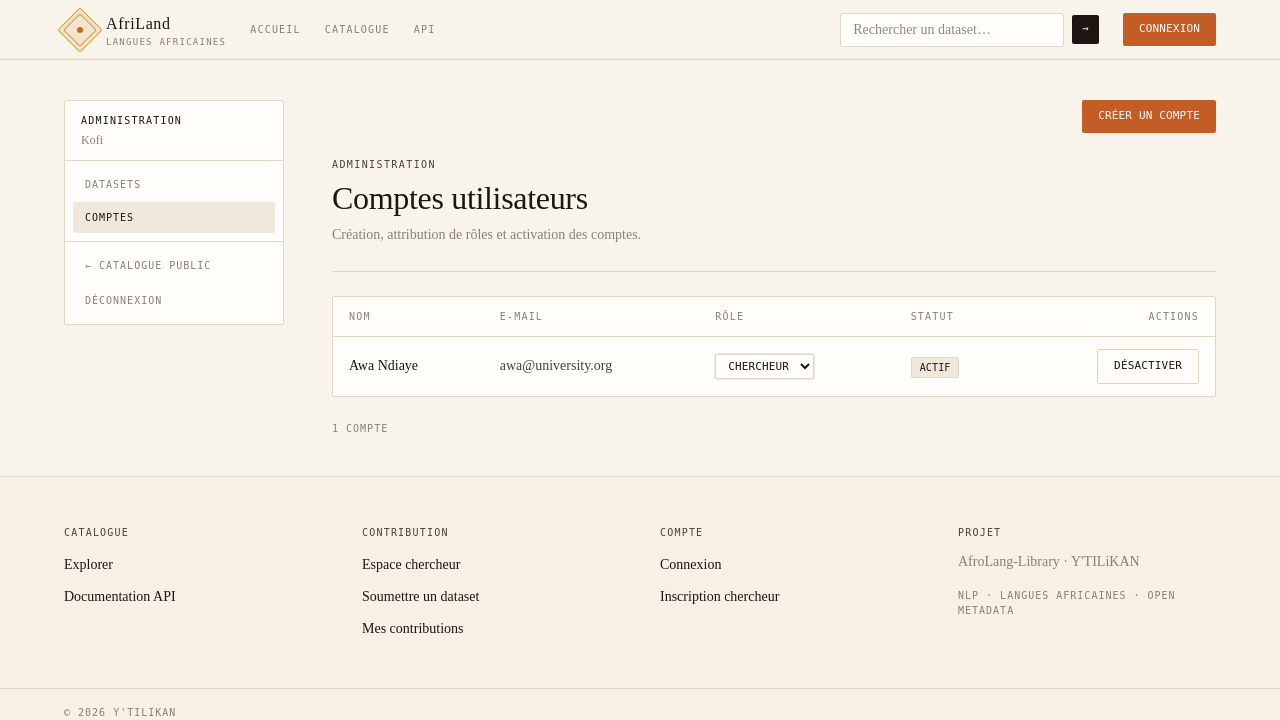
Test case: AccountAdminPanel (Story 4.4) › désactive un compte puis recharge la liste (FR-20)
What coordinates should you click on to do the following:
click the button with aria-label "Désactiver Awa Ndiaye"
I would click on:
 (1148, 366)
Its box is [1097,349,1199,384].
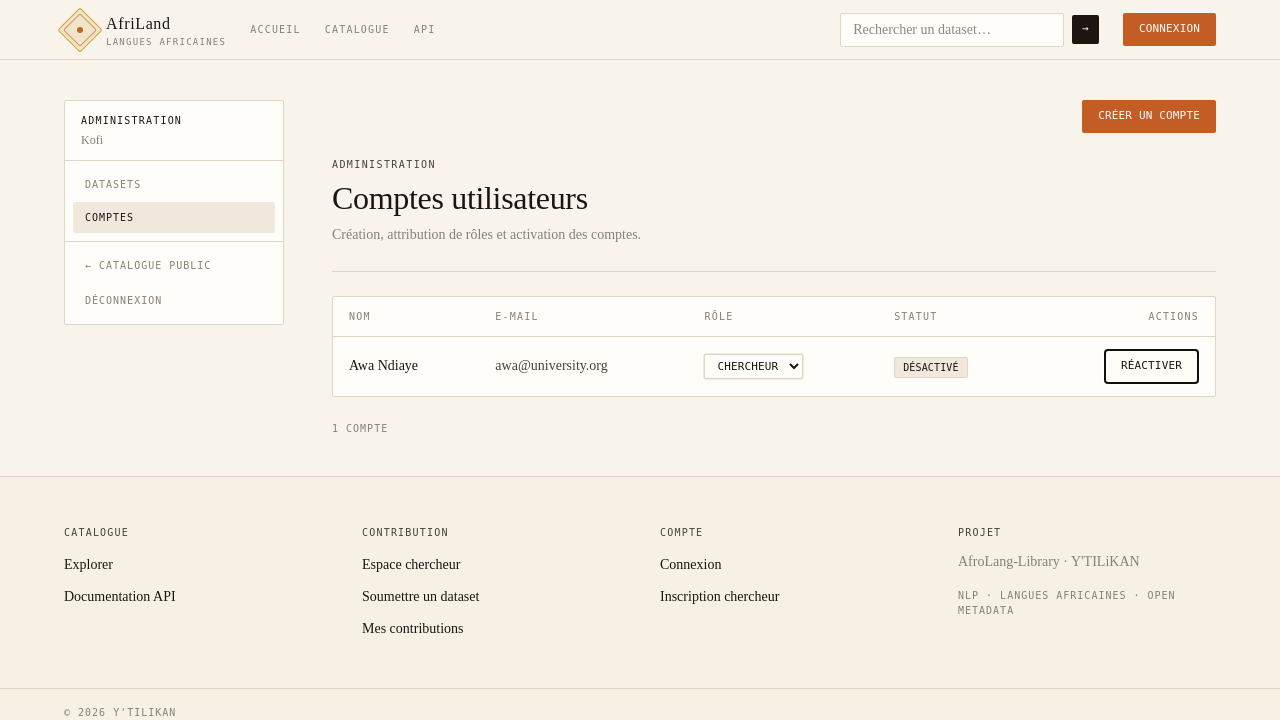
Expected: the text "Désactivé" is shown, [894,357,968,378]
